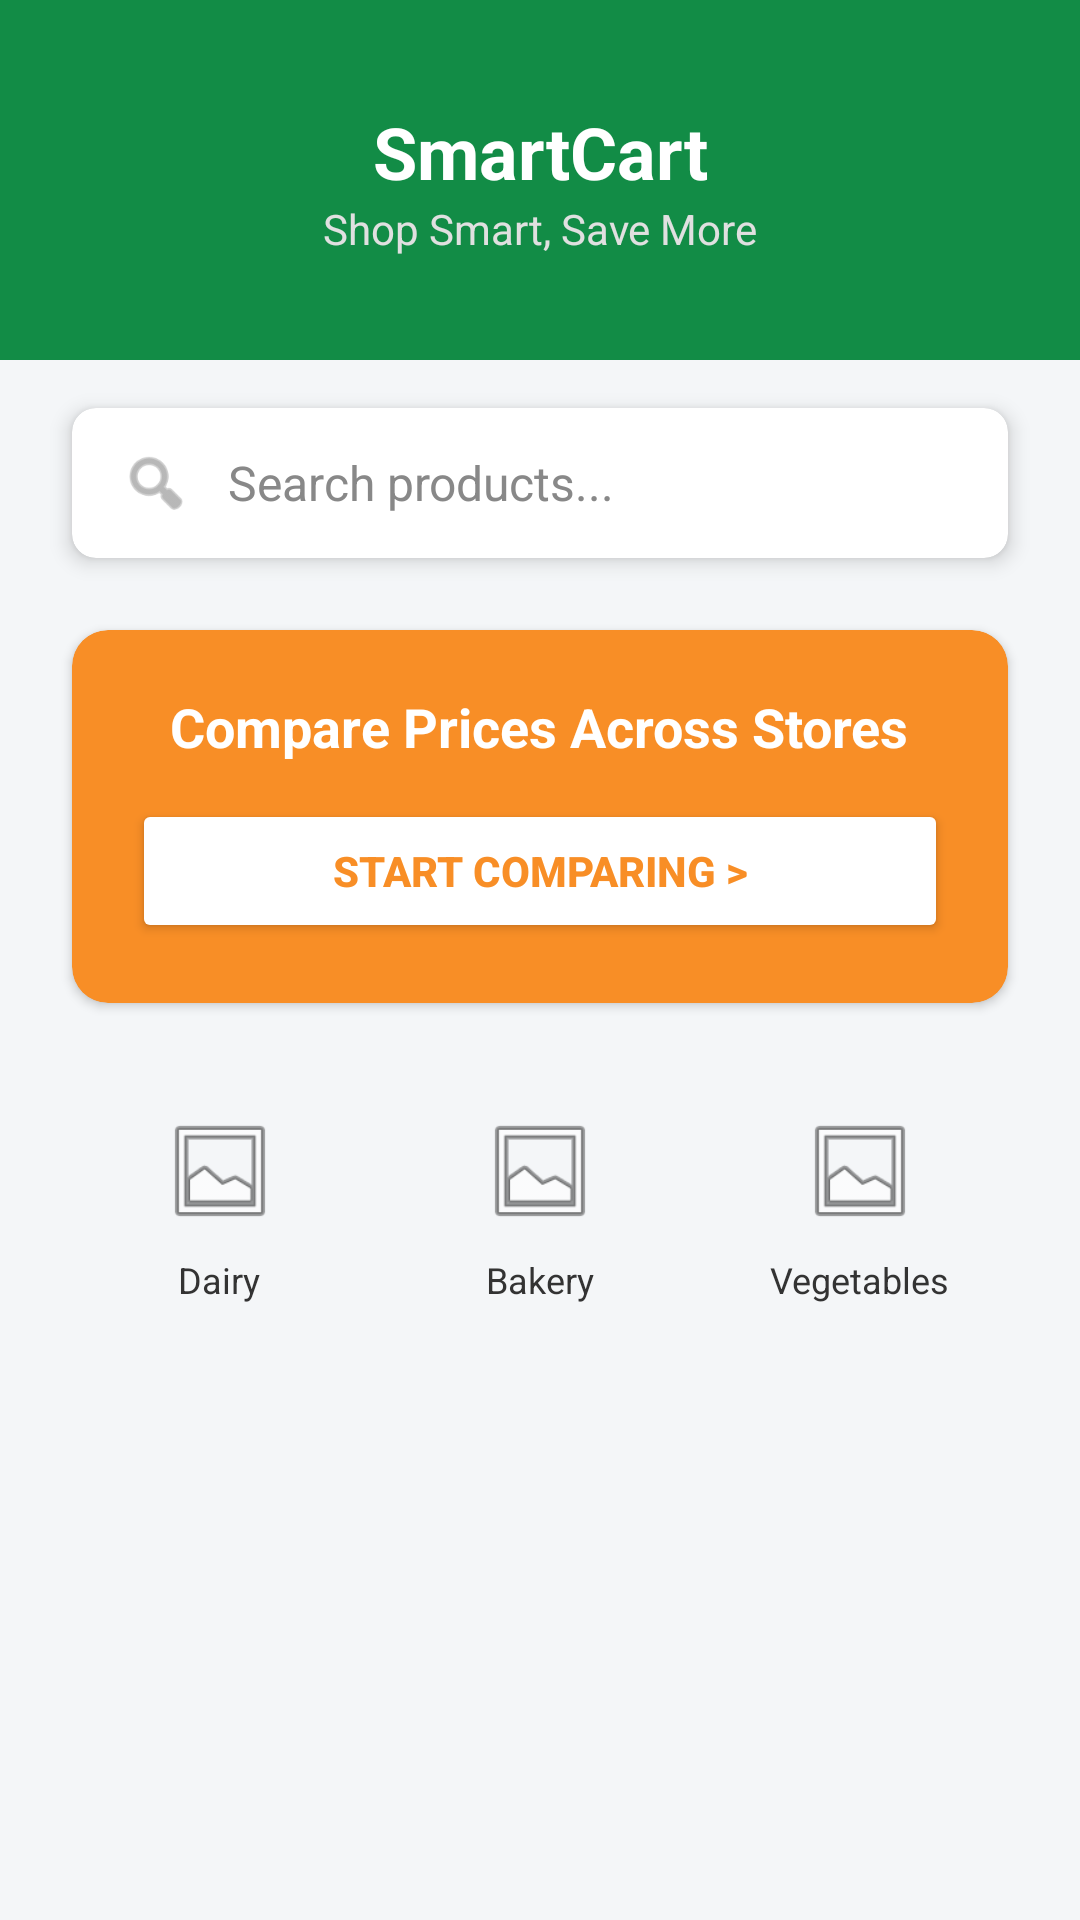

Icons on this 1080 x 1920 Android screen, each with its box as bbox=[x1, y1, x2, y2]:
gallery: bbox=[175, 1126, 265, 1216], bbox=[495, 1126, 585, 1216], bbox=[815, 1126, 905, 1216]
